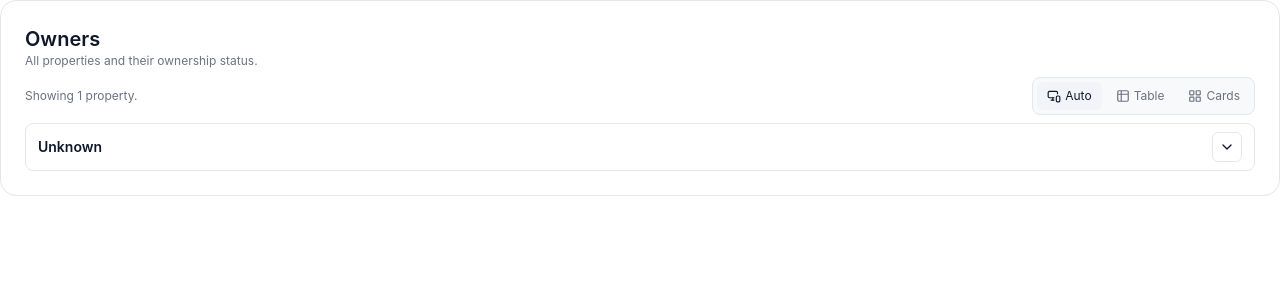
Scenario: OwnersManager › falls back to user_email when display_name is absent
What coordinates should you click on to do the following:
click the button "Unknown"
I would click on:
 (70, 146)
Its box is x1=25 y1=123 x2=1255 y2=171.
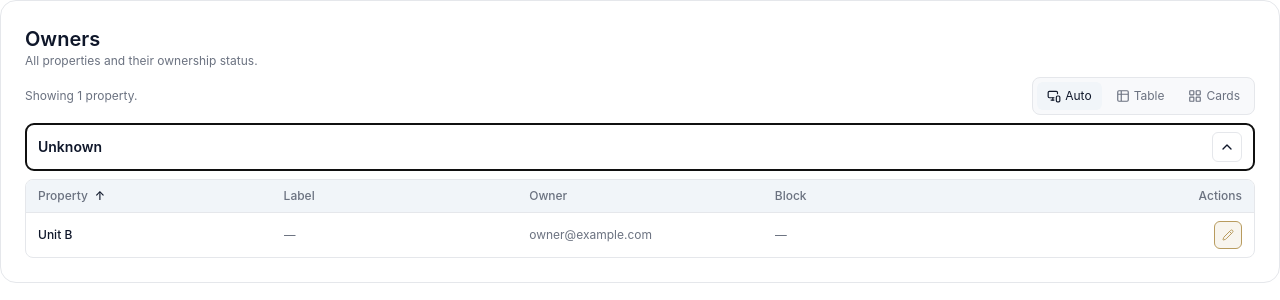
expect the text "owner@example.com" is shown: met, box x1=529 y1=227 x2=652 y2=242
